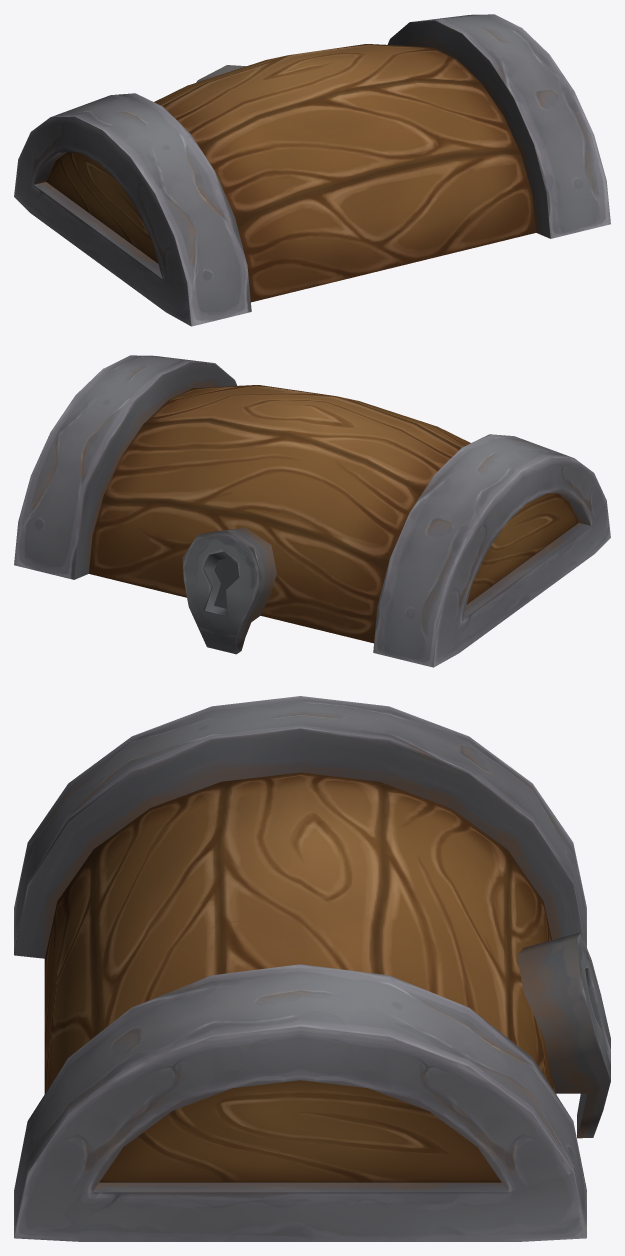
Rendered from Chest_cover.FBX.
The picture shows the model from 3 angles, top to bottom: view 1: azimuth 30°, elevation 25°; view 2: azimuth 150°, elevation 25°; view 3: azimuth 270°, elevation 25°; orthographic projection. The views are drawn at different scales.
Visible parts, largest first — view 1: Chest_cover; view 2: Chest_cover; view 3: Chest_cover.
Part boxes in pixels (<box>): Chest_cover: <box>14,14,610,326</box>; Chest_cover: <box>14,355,610,667</box>; Chest_cover: <box>14,696,610,1241</box>.
Size of what is drawn, in the model's own units: 249 by 186 by 98.57.
